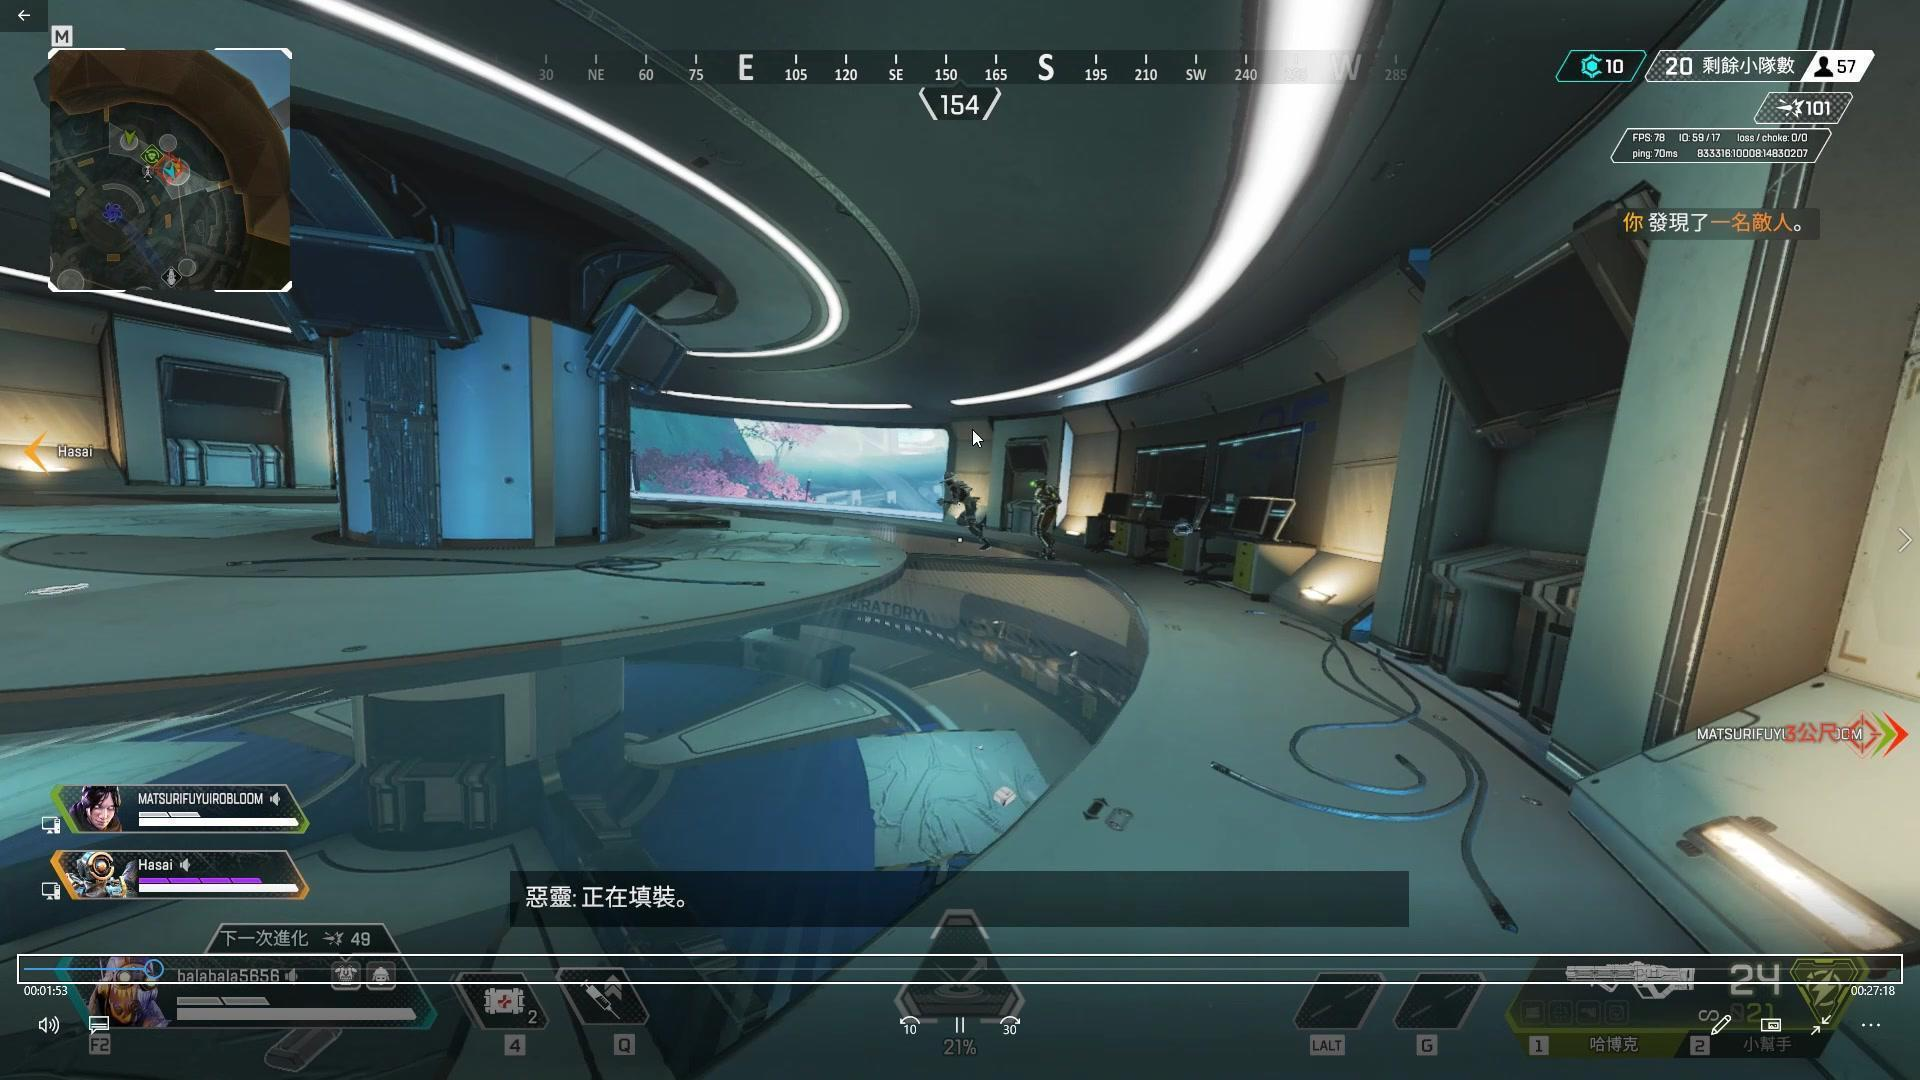avatar: (1027, 476, 1061, 566), (937, 471, 980, 532)
